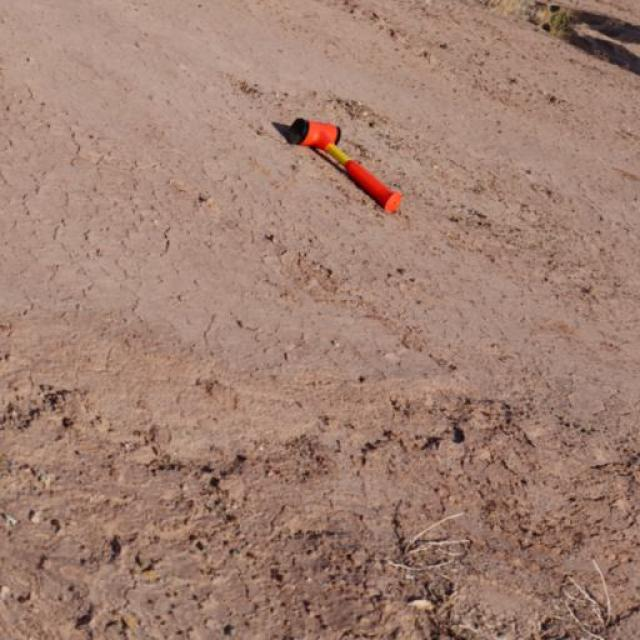mallet: (284, 115, 402, 214)
